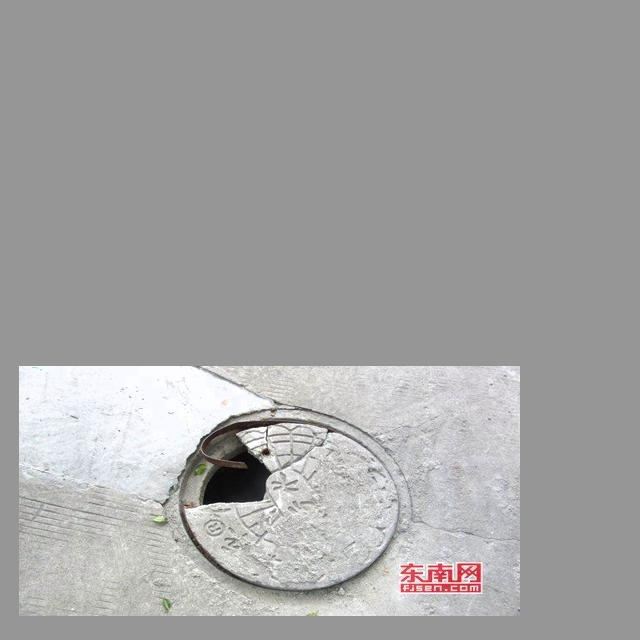broke: (155, 399, 422, 609)
